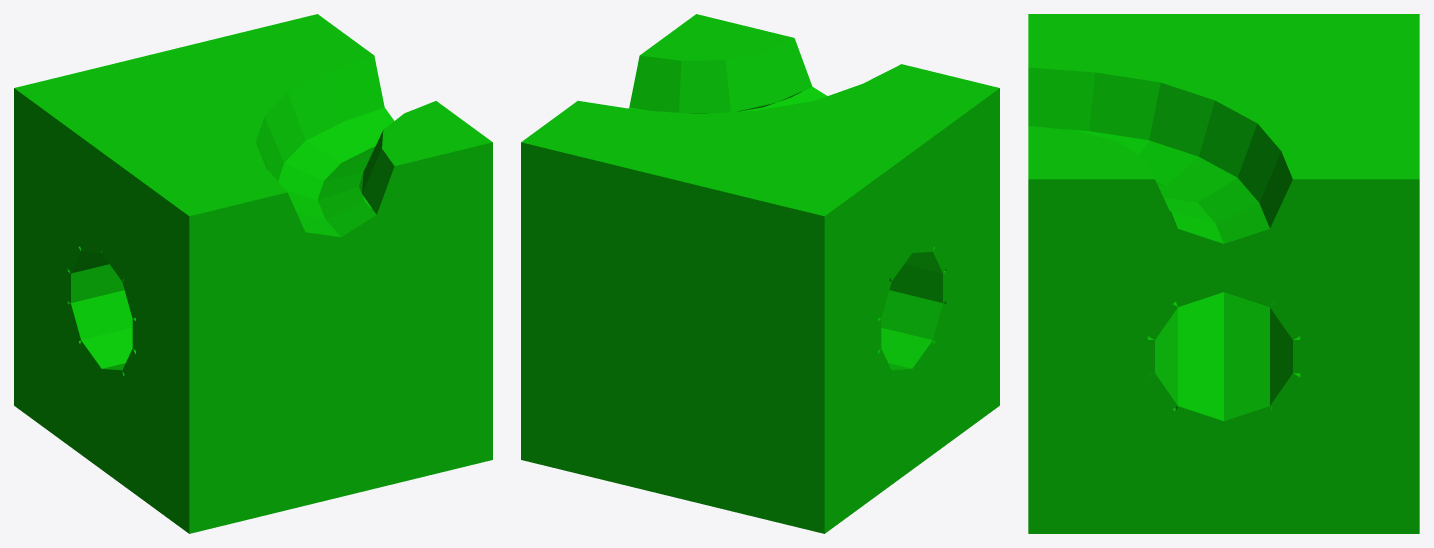
The model's file is UCXKugelbahn.05.fbx.
3 views of the same model, side by side, from view 1: azimuth 30°, elevation 25°; view 2: azimuth 150°, elevation 25°; view 3: azimuth 270°, elevation 25° (orthographic). The views are drawn at different scales.
Visible parts, largest first — view 1: UCX_Kugelbahn.05_low; view 2: UCX_Kugelbahn.05_low; view 3: UCX_Kugelbahn.05_low.
Part boxes in pixels (x1,y1,x2,y2): UCX_Kugelbahn.05_low: [14, 14, 492, 533]; UCX_Kugelbahn.05_low: [521, 14, 999, 533]; UCX_Kugelbahn.05_low: [1028, 14, 1419, 533].
Size of the model in its own units: 0.05 by 0.05 by 0.05.
